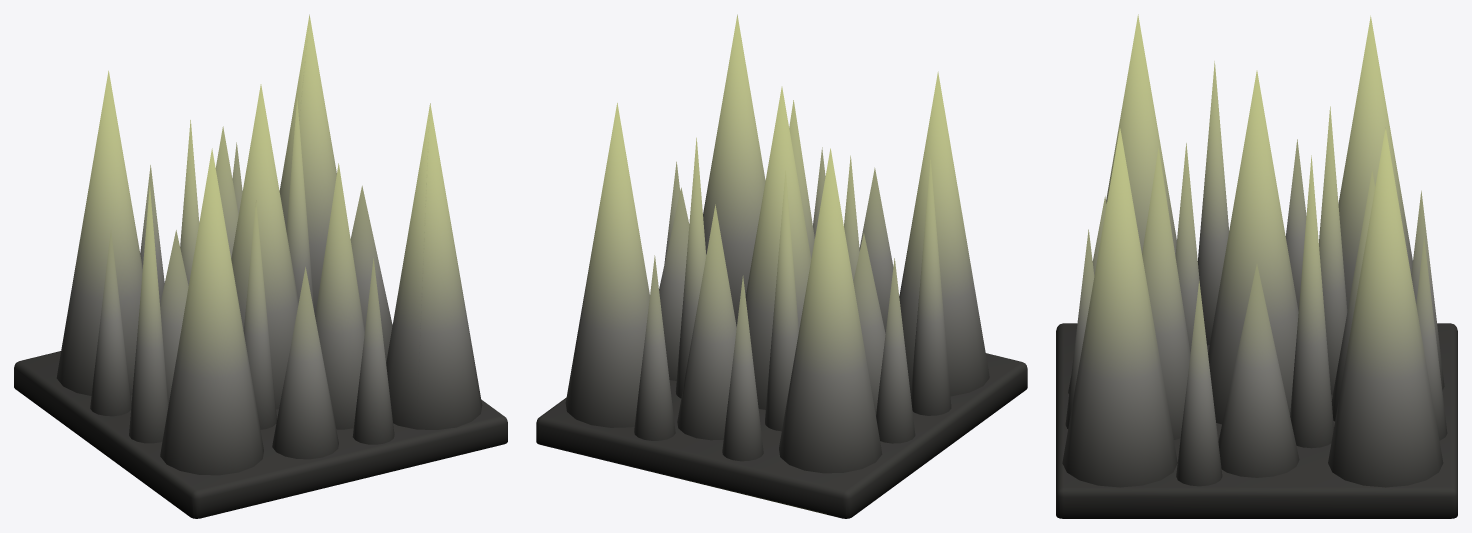
Rendered from Spike.fbx.
The picture shows the model from 3 angles, left to right: view 1: azimuth 30°, elevation 25°; view 2: azimuth 150°, elevation 25°; view 3: azimuth 270°, elevation 25°; orthographic projection. The views are drawn at different scales.
Parts seen in each view (by area): view 1: Spike; view 2: Spike; view 3: Spike.
Part boxes in pixels (left/top/right/bottom): Spike: left=14, top=14, right=507, bottom=518; Spike: left=536, top=14, right=1027, bottom=518; Spike: left=1056, top=14, right=1457, bottom=518.
Bounding box in the file's own units: 100 × 100 × 100.
